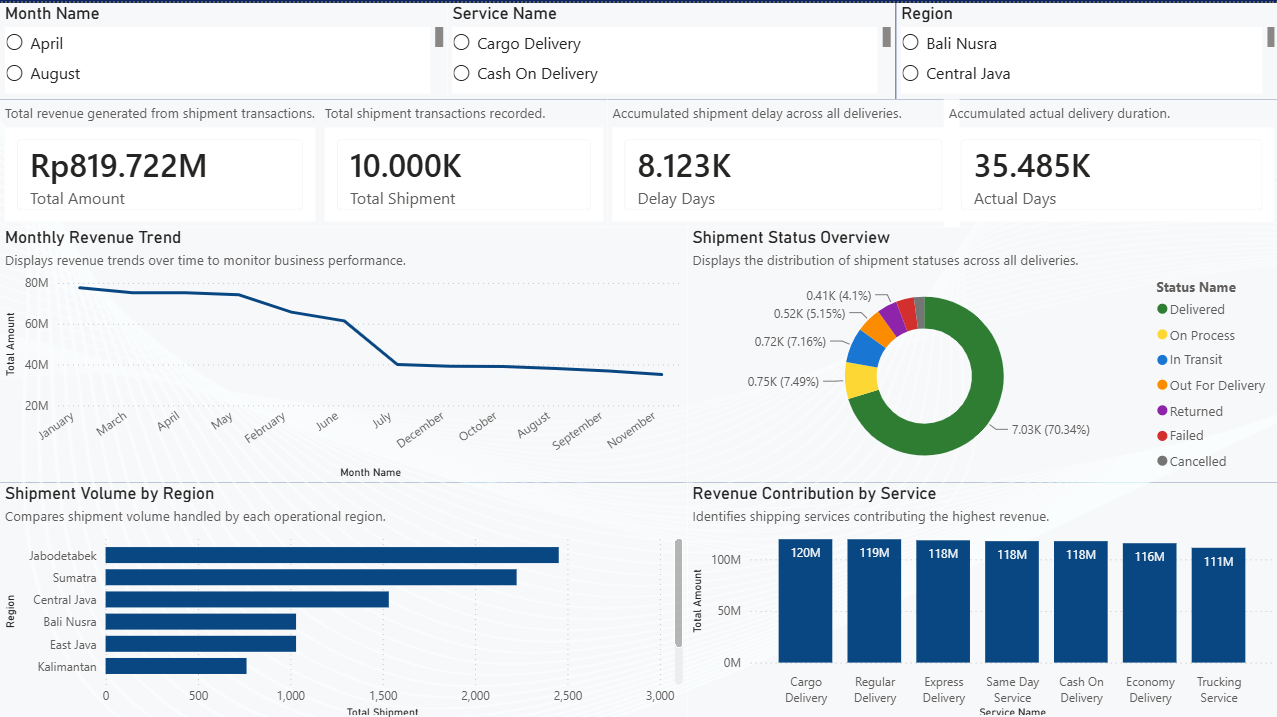

The page's visual inventory and layout, read from the dashboard file:
{"tool":"powerbi","page":{"name":"Executive Overview","canvas":[1280,720],"ordinal":0},"visuals":[{"type":"lineChart","title":"Monthly Revenue Trend","fields":{"Y":["Fact Shipment.Total Amount"],"Category":["Transaction Date.Month Name"]},"box":[0,224,688,256],"z":0},{"type":"clusteredColumnChart","title":"Revenue Contribution by Service","fields":{"Category":["Dim Service.Service Name"],"Y":["Fact Shipment.Total Amount"]},"box":[688,480,592,240],"z":1000},{"type":"donutChart","title":"Shipment Status Overview","fields":{"Category":["Dim Shipment Status.Status Name"],"Y":["Fact Shipment.Total Shipment"]},"box":[688,224,592,256],"z":2000},{"type":"listSlicer","fields":{"Values":["Delivery Date.Month Name"]},"box":[0,0,448,96],"z":3000},{"type":"listSlicer","fields":{"Values":["Dim Service.Service Name"]},"box":[448,0,448,96],"z":4000},{"type":"listSlicer","fields":{"Values":["Origin Branch.Region"]},"box":[896,0,384,96],"z":5000},{"type":"cardVisual","fields":{"Data":["Fact Shipment.Total Amount"]},"box":[0,96,320,128],"z":6000},{"type":"cardVisual","fields":{"Data":["Fact Shipment.Total Shipment"]},"box":[320,96,288,128],"z":7000},{"type":"cardVisual","fields":{"Data":["Fact Shipment.Delay Days"]},"box":[608,96,352,128],"z":8000},{"type":"cardVisual","fields":{"Data":["Fact Shipment.Actual Days"]},"box":[944,96,336,128],"z":9000},{"type":"clusteredBarChart","title":"Shipment Volume by Region","fields":{"Category":["Origin Branch.Region"],"Y":["Fact Shipment.Total Shipment"]},"box":[0,480,688,240],"z":10000}]}

Visuals, with their boxes in screenshot pixels (x1, y1, x2, y2), scaled from the page's 1280x720 canvas onto the 1277x717 screenshot:
"Monthly Revenue Trend" lineChart: detection(0, 223, 686, 478)
"Revenue Contribution by Service" clusteredColumnChart: detection(686, 478, 1276, 716)
"Shipment Status Overview" donutChart: detection(686, 223, 1276, 478)
listSlicer - Delivery Date.Month Name: detection(0, 0, 447, 96)
listSlicer - Dim Service.Service Name: detection(447, 0, 894, 96)
listSlicer - Origin Branch.Region: detection(894, 0, 1276, 96)
cardVisual - Fact Shipment.Total Amount: detection(0, 96, 319, 223)
cardVisual - Fact Shipment.Total Shipment: detection(319, 96, 607, 223)
cardVisual - Fact Shipment.Delay Days: detection(607, 96, 958, 223)
cardVisual - Fact Shipment.Actual Days: detection(942, 96, 1276, 223)
"Shipment Volume by Region" clusteredBarChart: detection(0, 478, 686, 716)
